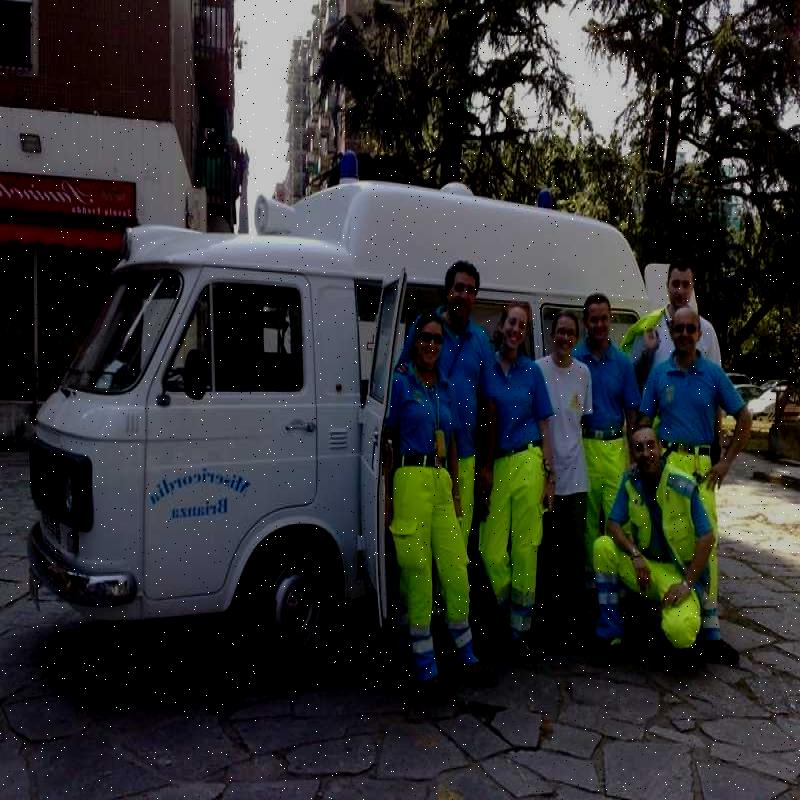AmbulanceSiren: (520, 178, 580, 218), (335, 132, 377, 184)
